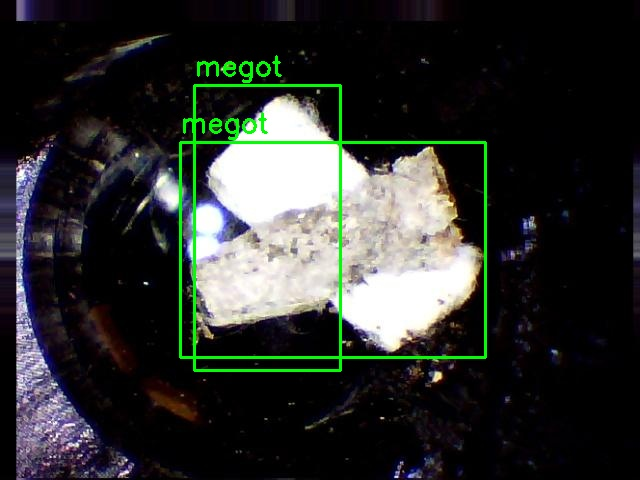megot: (180, 142, 485, 357), (194, 85, 340, 370)
